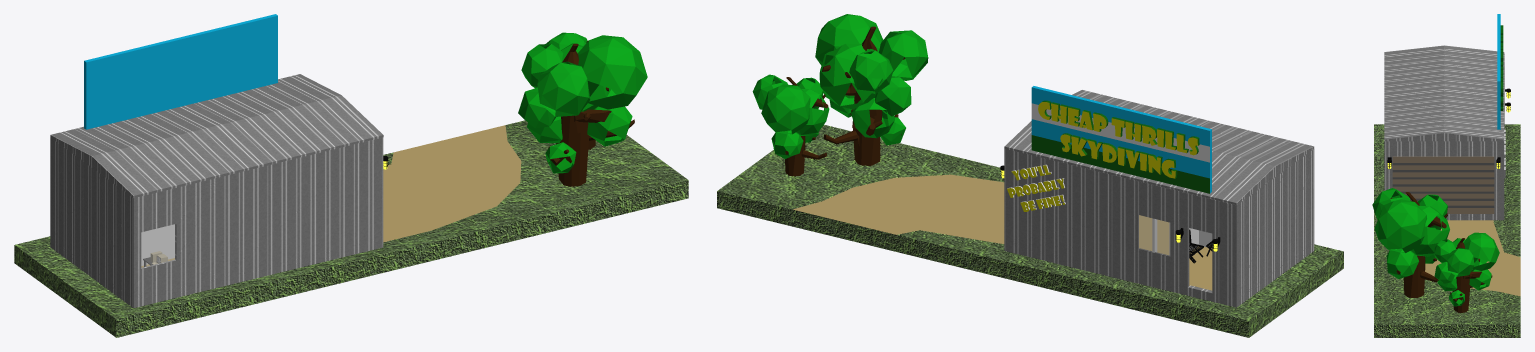
File: Skydiving Place.glb
3 renders of one model, left to right at view 1: azimuth 30°, elevation 25°; view 2: azimuth 150°, elevation 25°; view 3: azimuth 270°, elevation 25°, orthographic. The views are drawn at different scales.
Visible parts, largest first — view 1: Ground, PFMB, Cube.001, Sign, Leaves.001, Trunk, Windows, Cube; view 2: Ground, PFMB, Leaves.001, Sign, Cube.001, Trunk, Sign.001, Windows, Cube; view 3: Ground, Cube.001, Leaves.001, Garage Door, PFMB, Trunk, Sign, Lights.
Part boxes in pixels (<box>): Ground: <box>14,120,688,337</box>; PFMB: <box>50,137,383,308</box>; Cube.001: <box>50,74,383,198</box>; Sign: <box>84,14,277,129</box>; Leaves.001: <box>518,32,647,173</box>; Trunk: <box>548,41,634,186</box>; Windows: <box>141,224,175,268</box>; Cube: <box>141,224,174,265</box>; Ground: <box>717,124,1343,337</box>; PFMB: <box>1004,148,1314,307</box>; Leaves.001: <box>752,14,928,159</box>; Sign: <box>1031,86,1211,193</box>; Cube.001: <box>1004,90,1314,205</box>; Trunk: <box>785,26,905,176</box>; Sign.001: <box>1007,164,1065,211</box>; Windows: <box>1138,215,1169,255</box>; Cube: <box>1152,218,1212,255</box>; Ground: <box>1374,124,1520,337</box>; Cube.001: <box>1384,45,1504,141</box>; Leaves.001: <box>1372,188,1499,306</box>; Garage Door: <box>1392,156,1494,213</box>; PFMB: <box>1384,54,1504,220</box>; Trunk: <box>1390,192,1492,312</box>; Sign: <box>1497,14,1503,129</box>; Lights: <box>1387,88,1510,168</box>.
Size of what is drawn, in the model's own units: 19.9 by 6.68 by 6.22.
Materials: 36 (3 with a texture image).
